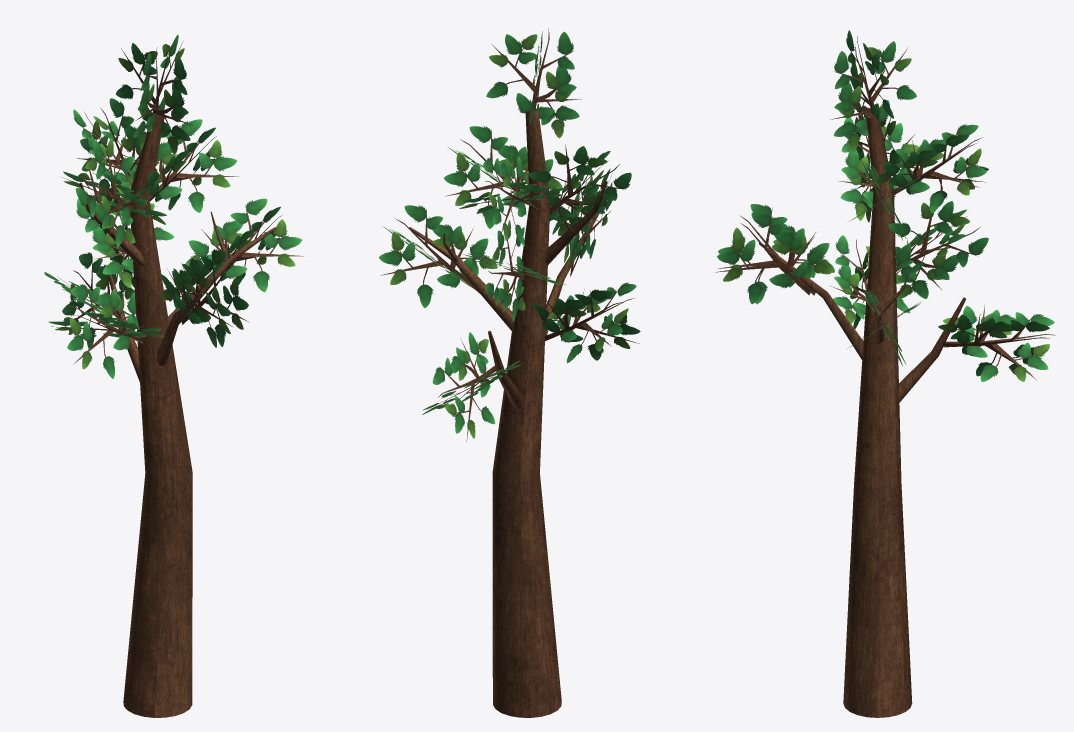
The model's file is tree_textured 1.fbx.
3 renders of one model, left to right at view 1: azimuth 30°, elevation 25°; view 2: azimuth 150°, elevation 25°; view 3: azimuth 270°, elevation 25°, orthographic.
Parts seen in each view (by area): view 1: pasted__pasted__pasted__pasted__pasted__pCylinder1, pasted__pasted__pPlane1 (×7), pasted__pasted__pasted__pPlane1 (×4), pasted__pPlane1 (×4), pPlane1; view 2: pasted__pasted__pasted__pasted__pasted__pCylinder1, pasted__pasted__pPlane1 (×5), pasted__pPlane1 (×4), pasted__pasted__pasted__pPlane1 (×2), pPlane1, pasted__pasted__pasted__pasted__pPlane1; view 3: pasted__pasted__pasted__pasted__pasted__pCylinder1, pasted__pPlane1 (×4), pasted__pasted__pPlane1 (×4), pasted__pasted__pasted__pPlane1 (×3), pasted__pasted__pasted__pasted__pPlane1, pPlane1.
Part boxes in pixels (box(x1,y1,x2,y2)): pasted__pasted__pasted__pasted__pasted__pCylinder1: box(79, 113, 276, 717); pasted__pasted__pPlane1 (×7): box(61, 34, 303, 378); pasted__pasted__pasted__pPlane1 (×4): box(48, 119, 238, 341); pasted__pPlane1 (×4): box(76, 43, 282, 347); pPlane1: box(62, 252, 134, 348); pasted__pasted__pasted__pasted__pasted__pCylinder1: box(409, 108, 607, 717); pasted__pasted__pPlane1 (×5): box(444, 28, 640, 360); pasted__pPlane1 (×4): box(379, 154, 612, 414); pasted__pasted__pasted__pPlane1 (×2): box(527, 144, 636, 363); pPlane1: box(432, 332, 496, 441); pasted__pasted__pasted__pasted__pPlane1: box(485, 220, 525, 321); pasted__pasted__pasted__pasted__pasted__pCylinder1: box(759, 113, 965, 717); pasted__pPlane1 (×4): box(718, 41, 1055, 381); pasted__pasted__pPlane1 (×4): box(716, 30, 986, 304); pasted__pasted__pasted__pPlane1 (×3): box(829, 111, 967, 323); pasted__pasted__pasted__pasted__pPlane1: box(888, 201, 988, 298); pPlane1: box(938, 314, 1049, 376).
Bounding box in the file's own units: 31.47 × 74.49 × 36.98.
